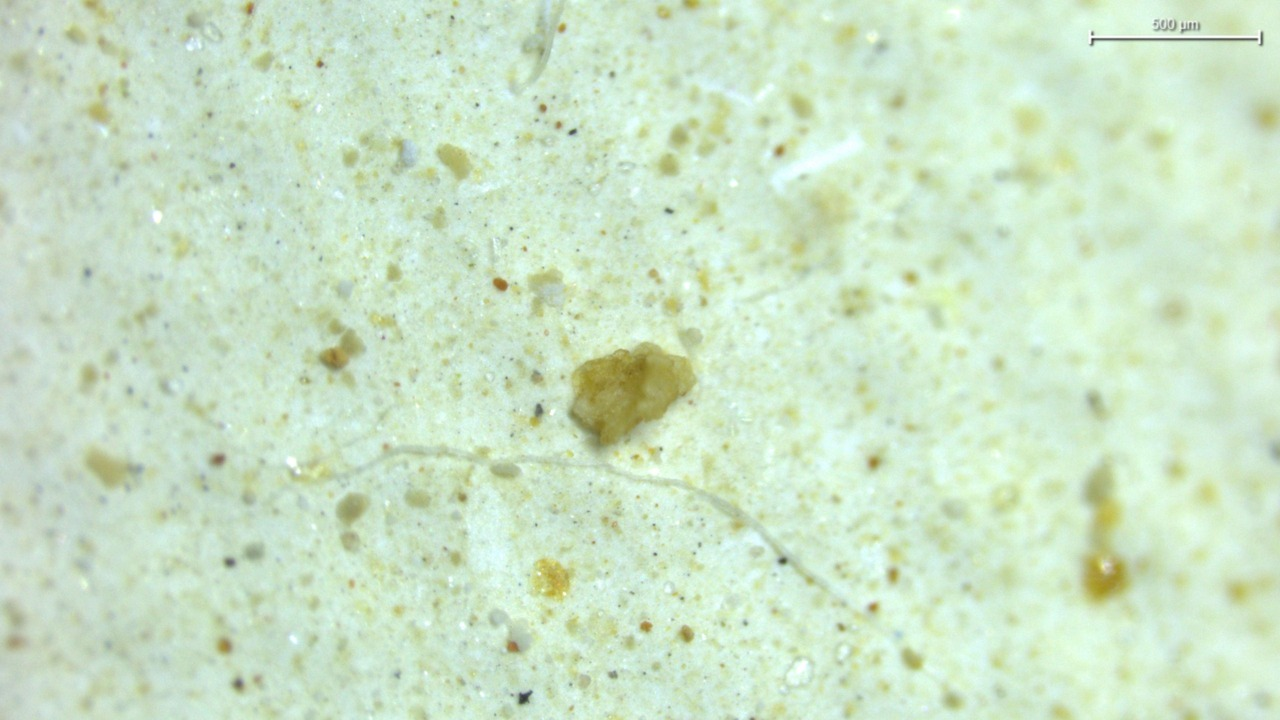microplastic_fragment: (570, 343, 696, 444)
